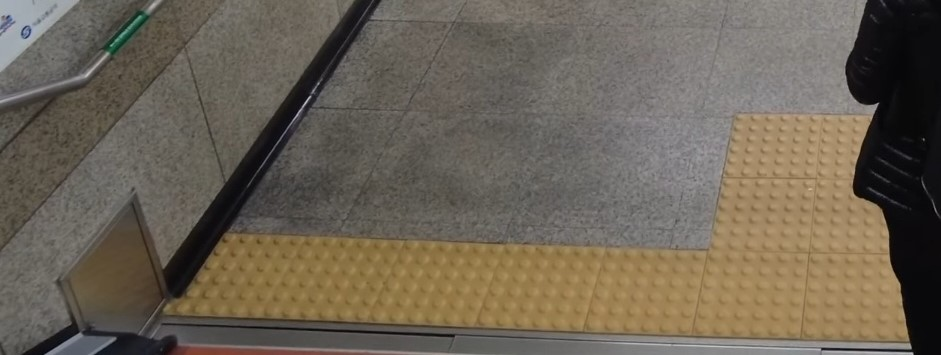warningBlock: (386, 236, 492, 328), (814, 256, 913, 338), (506, 244, 599, 330), (712, 252, 805, 334), (606, 242, 690, 325), (214, 234, 301, 307), (297, 242, 383, 309), (723, 182, 810, 245), (824, 183, 901, 248), (823, 119, 901, 182), (732, 110, 815, 169)
